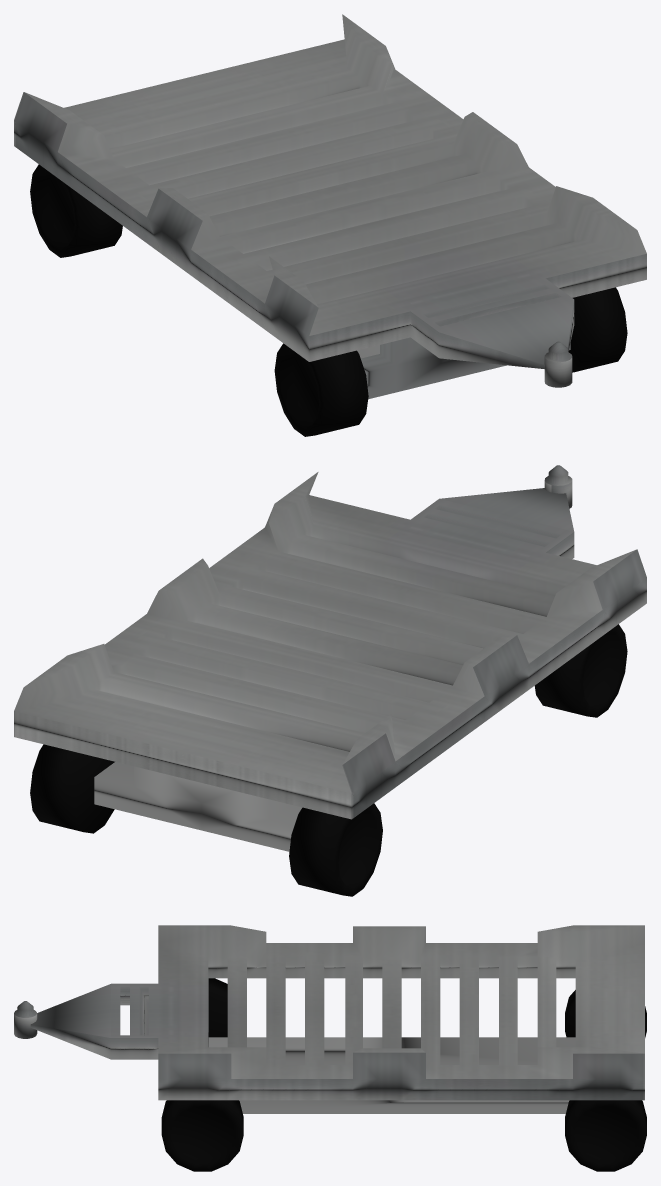
The model's file is airport dolly 1.fbx.
The picture shows the model from 3 angles, top to bottom: view 1: azimuth 30°, elevation 25°; view 2: azimuth 150°, elevation 25°; view 3: azimuth 270°, elevation 25°; orthographic projection. The views are drawn at different scales.
Visible parts, largest first — view 1: Cube, Cylinder.001, Cylinder.002, Cylinder; view 2: Cube, Cylinder.002, Cylinder.001, Cylinder; view 3: Cube, Cylinder.001, Cylinder.002, Cylinder.
Part boxes in pixels (box(x1,y1,x2,y2)): Cube: box(14, 14, 646, 399); Cylinder.001: box(274, 287, 627, 436); Cylinder.002: box(30, 164, 122, 257); Cylinder: box(544, 341, 572, 387); Cube: box(14, 472, 646, 851); Cylinder.002: box(30, 744, 382, 896); Cylinder.001: box(534, 624, 627, 717); Cylinder: box(544, 465, 572, 508); Cube: box(30, 925, 644, 1113); Cylinder.001: box(161, 978, 243, 1171); Cylinder.002: box(565, 990, 646, 1171); Cylinder: box(14, 1001, 37, 1038).
Bounding box in the file's own units: 4089 × 1697 × 8049.
